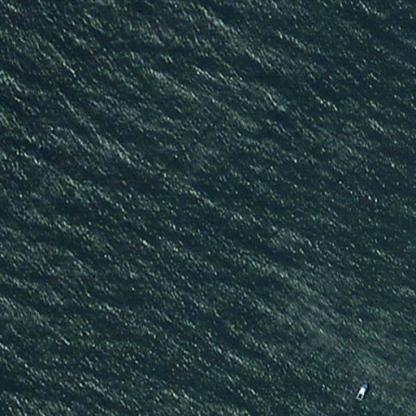ship: (351, 380, 371, 402)
